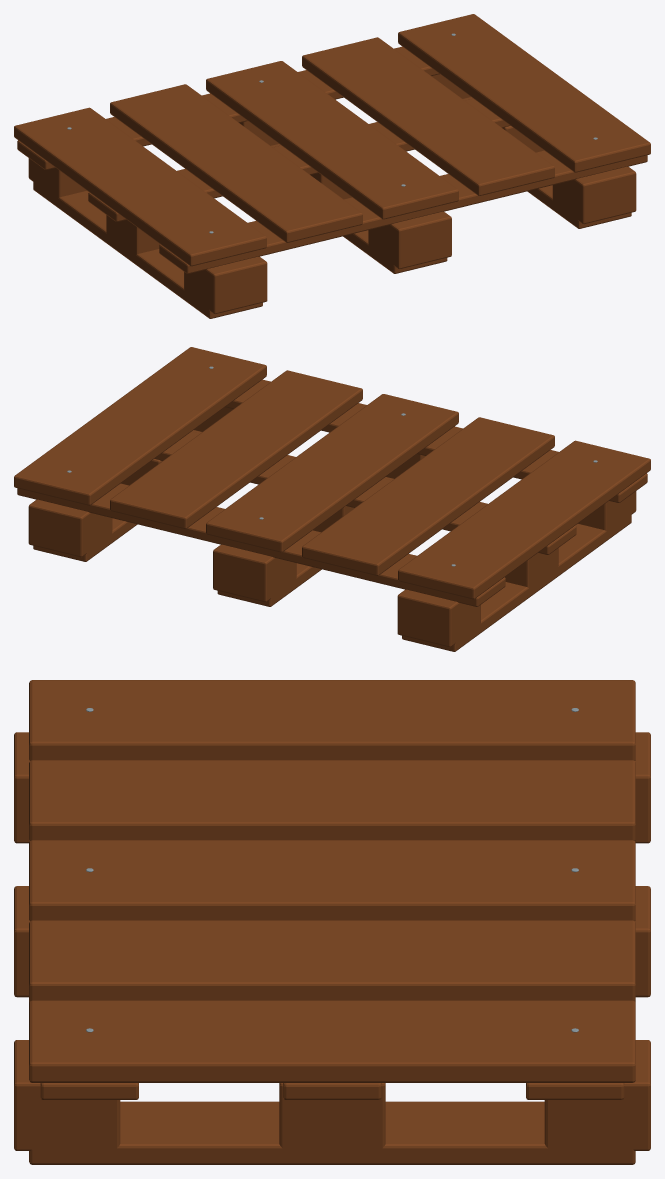
3 renders of one model, top to bottom at view 1: azimuth 30°, elevation 25°; view 2: azimuth 150°, elevation 25°; view 3: azimuth 270°, elevation 25°, orthographic. The views are drawn at different scales.
Visible parts, largest first — view 1: TOP_Board.001, TOP_Board.003, TOP_Board, TOP_Board.002, TOP_Board.004, CROSS_Board.001, BOTTOM_Runner.001, BLOCK.001, BLOCK.007, BLOCK.004, CROSS_Board, CROSS_Board.002 (+4 smaller); view 2: TOP_Board.001, TOP_Board.003, TOP_Board, TOP_Board.002, TOP_Board.004, CROSS_Board, BOTTOM_Runner.001, BLOCK, BLOCK.003, BLOCK.006, CROSS_Board.001, CROSS_Board.002 (+4 smaller); view 3: TOP_Board.004, TOP_Board.001, TOP_Board.003, TOP_Board.002, TOP_Board, BOTTOM_Runner, BLOCK, BLOCK.007, BLOCK.008, BLOCK.003, BLOCK.006, BLOCK.001 (+4 smaller).
Boxes of the visible parts, x1,y1,x2,y2 form: TOP_Board.001: (110, 84, 362, 242); TOP_Board.003: (302, 37, 554, 195); TOP_Board: (14, 107, 266, 266); TOP_Board.002: (206, 61, 458, 219); TOP_Board.004: (398, 14, 650, 172); CROSS_Board.001: (159, 150, 647, 273); BOTTOM_Runner.001: (33, 181, 262, 318); BLOCK.001: (184, 256, 267, 314); BLOCK.007: (552, 166, 636, 224); BLOCK.004: (368, 211, 451, 269); CROSS_Board: (17, 46, 439, 169); CROSS_Board.002: (88, 98, 510, 221); TOP_Board.001: (302, 417, 554, 575); TOP_Board.003: (110, 370, 362, 528); TOP_Board: (398, 440, 650, 599); TOP_Board.002: (206, 394, 458, 552); TOP_Board.004: (14, 347, 266, 505); CROSS_Board: (17, 483, 505, 606); BOTTOM_Runner.001: (402, 514, 631, 651); BLOCK: (28, 499, 112, 557); BLOCK.003: (397, 589, 480, 647); BLOCK.006: (213, 544, 296, 602); CROSS_Board.001: (225, 379, 647, 502); CROSS_Board.002: (154, 431, 576, 554); TOP_Board.004: (29, 1000, 635, 1082); TOP_Board.001: (29, 760, 635, 840); TOP_Board.003: (29, 920, 635, 1000); TOP_Board.002: (29, 840, 635, 920); TOP_Board: (29, 680, 635, 760); BOTTOM_Runner: (29, 1101, 635, 1164); BLOCK: (544, 1040, 650, 1150); BLOCK.007: (14, 1040, 120, 1150); BLOCK.008: (279, 1083, 385, 1149); BLOCK.003: (635, 732, 650, 843); BLOCK.006: (635, 886, 650, 997); BLOCK.001: (14, 732, 29, 843).
Bounding box in the file's own units: 1.2 × 0.175 × 0.84.
